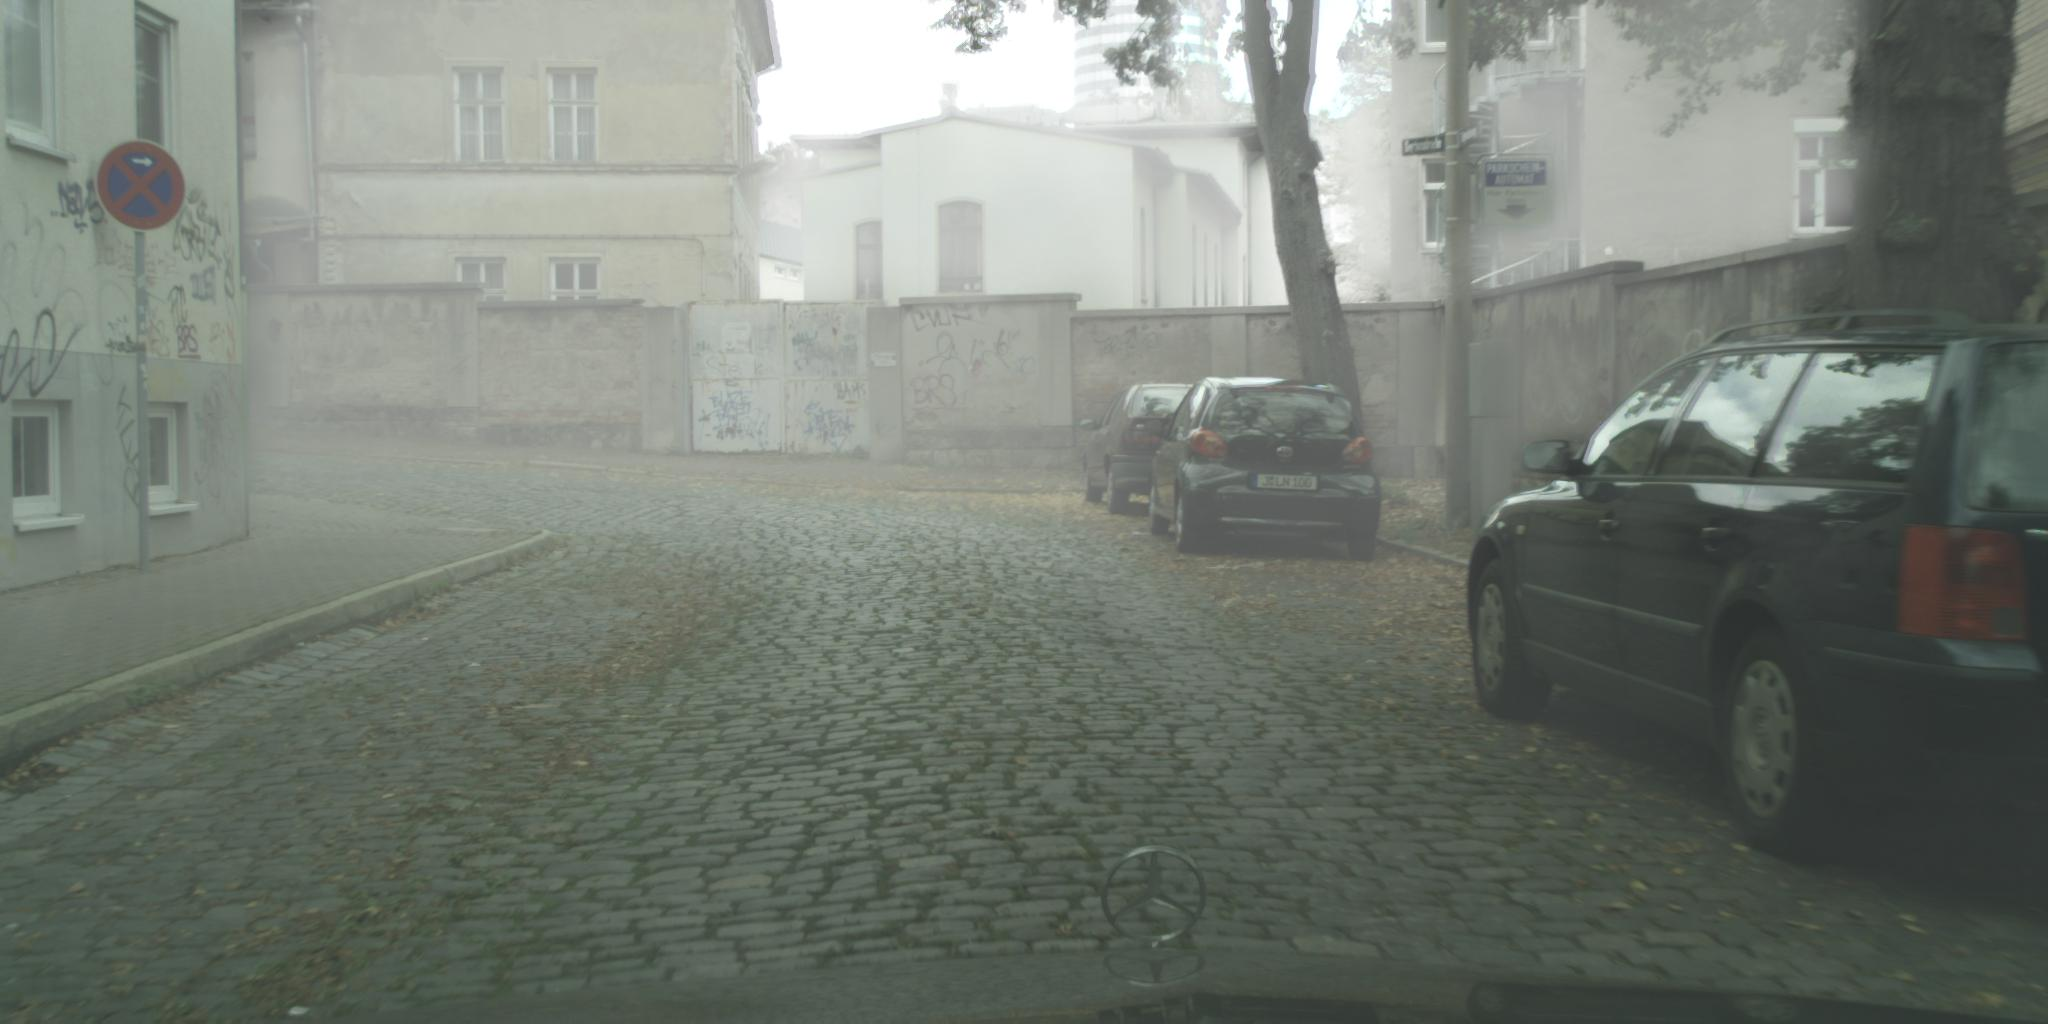car: (1467, 308, 2048, 862), (1145, 377, 1382, 566), (1080, 385, 1199, 513)
